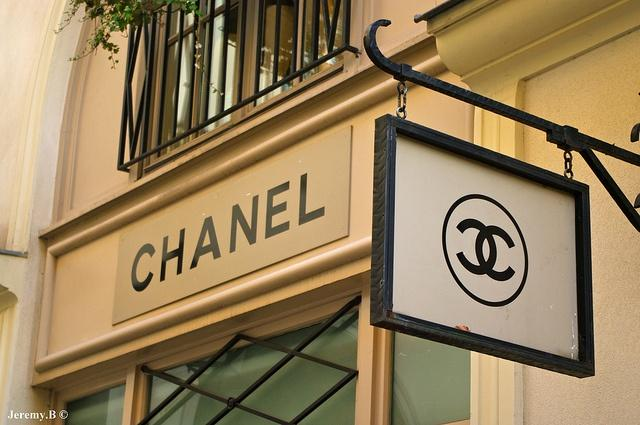Chanel: (113, 127, 351, 322), (401, 152, 567, 347)
